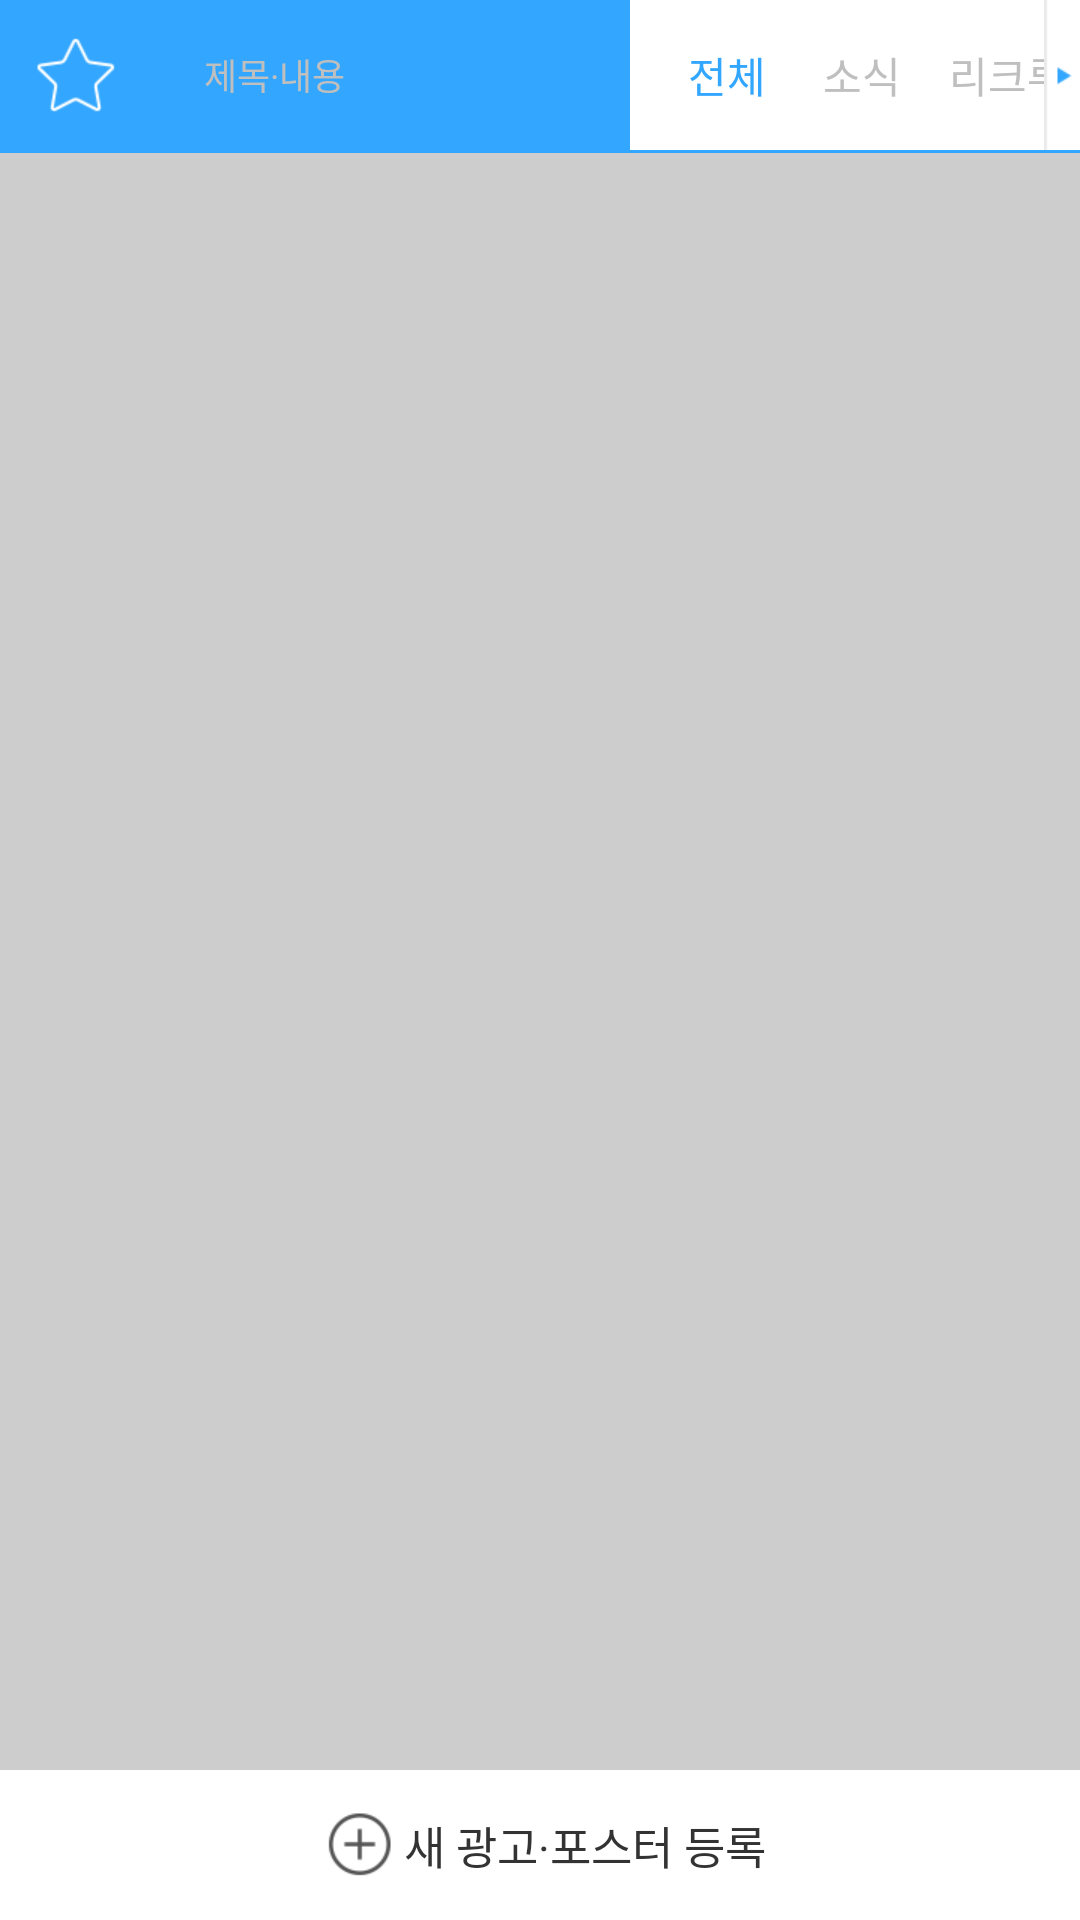

Icon bounding boxes for this 1080px×1920px phone screenshot, format (x1, y1, x2, y2):
item add: (328, 1813, 391, 1876)
